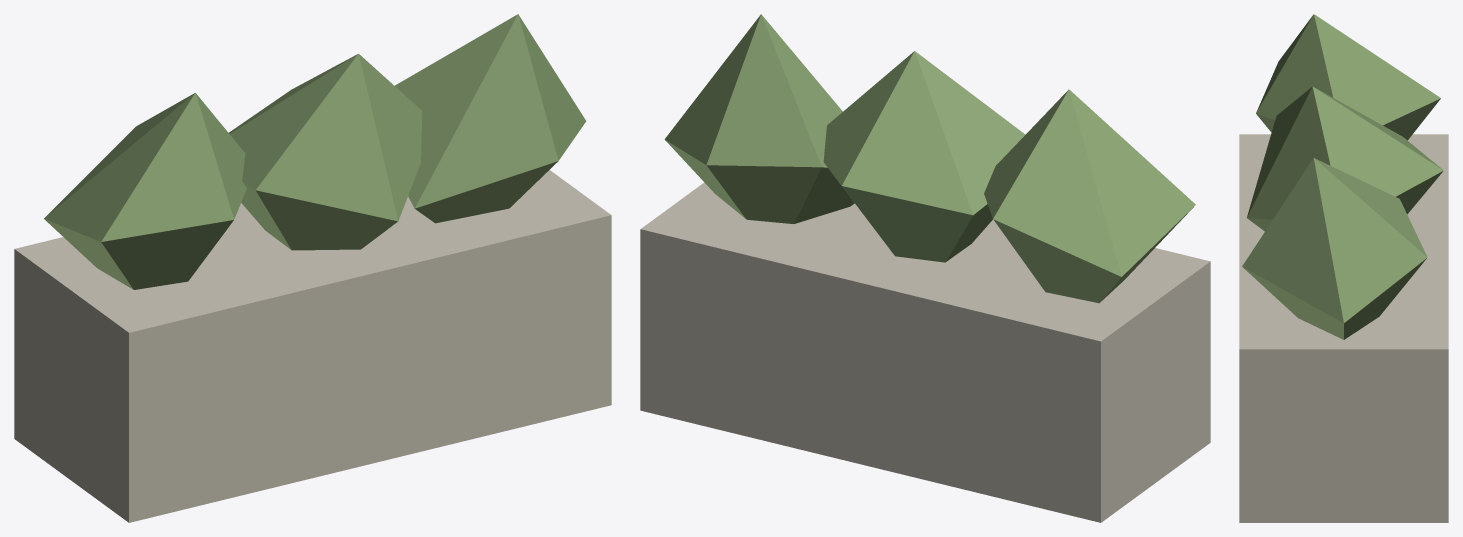
The picture shows the model from 3 angles, left to right: view 1: azimuth 30°, elevation 25°; view 2: azimuth 150°, elevation 25°; view 3: azimuth 270°, elevation 25°; orthographic projection. The views are drawn at different scales.
Bounding box in the file's own units: 1.84 × 1.26 × 0.7.
